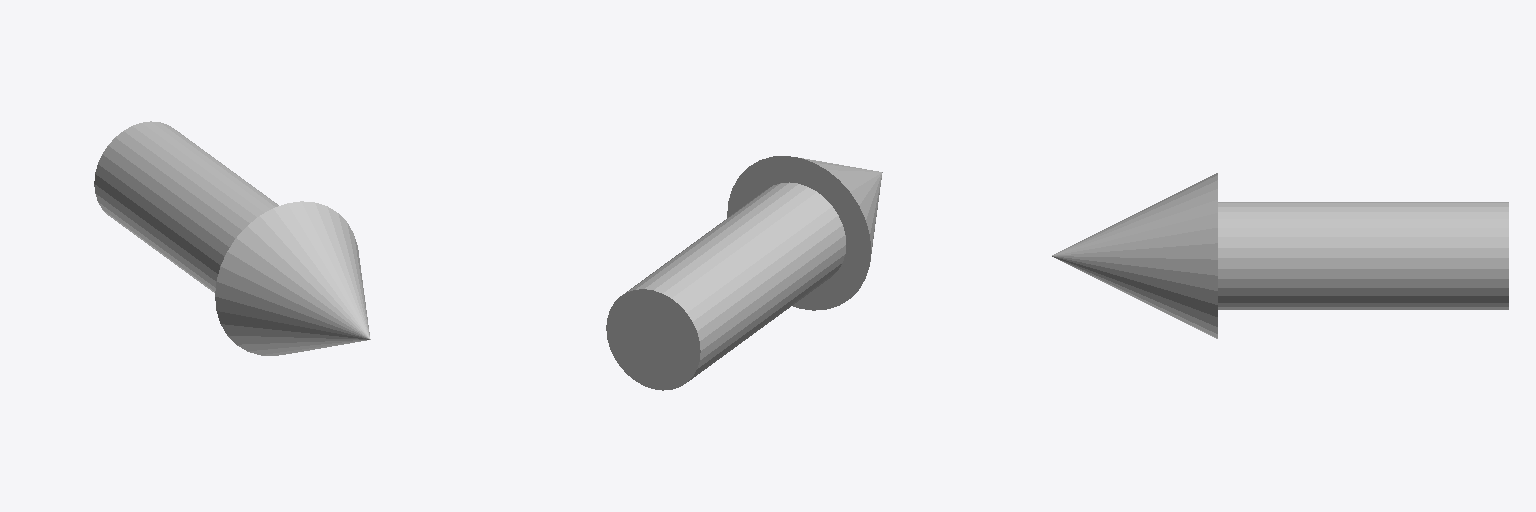
File: modelo_flecha.obj
3 views of the same model, side by side, from view 1: azimuth 30°, elevation 25°; view 2: azimuth 150°, elevation 25°; view 3: azimuth 270°, elevation 25° (orthographic).
Parts seen in each view (by area): view 1: Cylinder; view 2: Cylinder; view 3: Cylinder.
Boxes of the visible parts, <box> form: Cylinder: <box>94,121,370,355</box>; Cylinder: <box>606,156,882,390</box>; Cylinder: <box>1052,173,1508,338</box>.
Bounding box in the file's own units: 3.06 × 3.06 × 8.4.